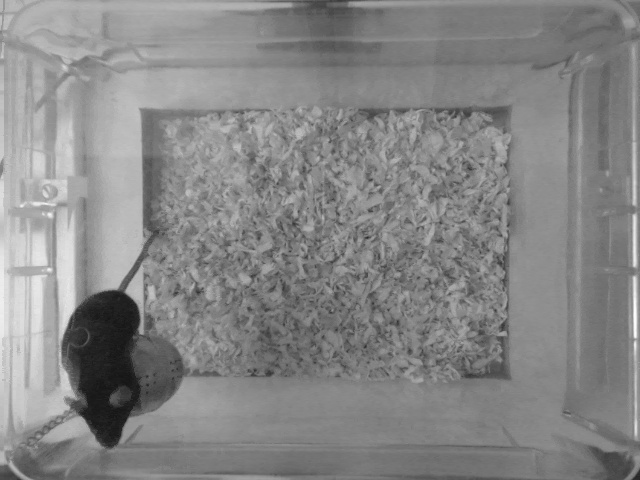mice: (54, 212, 172, 452)
